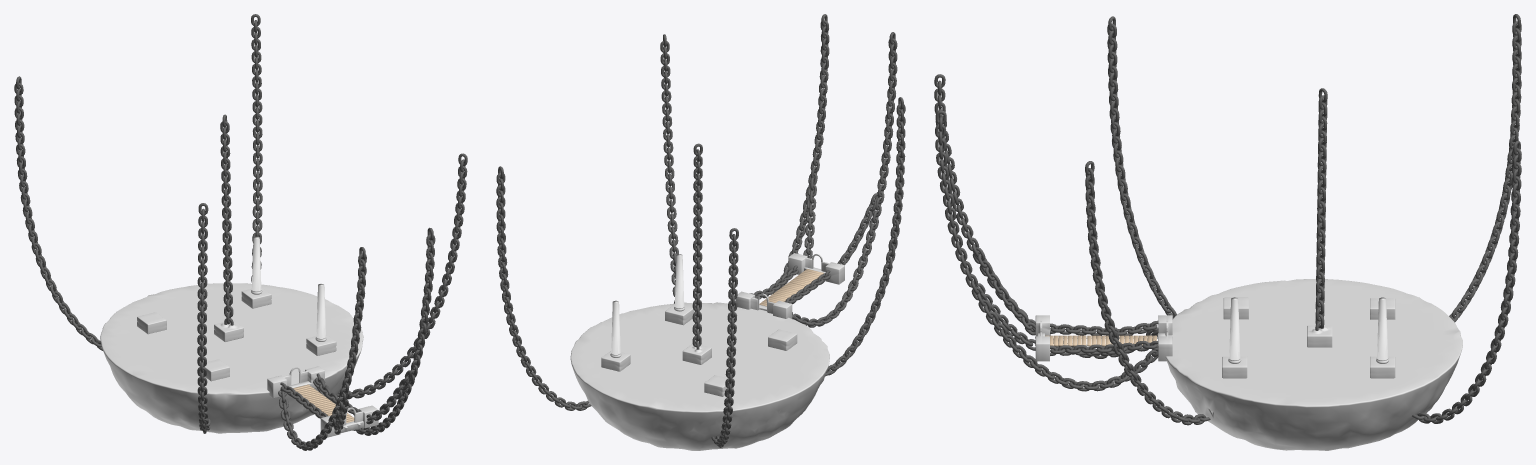
The model's file is GuardianRoom.fbx.
3 views of the same model, side by side, from view 1: azimuth 30°, elevation 25°; view 2: azimuth 150°, elevation 25°; view 3: azimuth 270°, elevation 25° (orthographic). The views are drawn at different scales.
Visible parts, largest first — view 1: arena_lp, Chains, BridgeFloor, Cylinder.001, Cylinder, LP_block.004, LP_block_middle, LP_block.001, LP_block.002; view 2: arena_lp, Chains, BridgeFloor, Cylinder.001, LP_block.003, Cylinder, LP_block_middle, LP_block.001, LP_block.002; view 3: arena_lp, Chains, BridgeFloor, Cylinder.001, Cylinder.
Boxes of the visible parts, x1,y1,x2,y2 form: arena_lp: [100, 283, 363, 433]; Chains: [14, 14, 467, 450]; BridgeFloor: [293, 384, 354, 422]; Cylinder.001: [251, 236, 262, 294]; Cylinder: [315, 284, 326, 341]; LP_block.004: [137, 312, 166, 334]; LP_block_middle: [214, 320, 243, 341]; LP_block.001: [241, 287, 271, 308]; LP_block.002: [306, 335, 336, 355]; arena_lp: [570, 302, 829, 450]; Chains: [496, 14, 905, 447]; BridgeFloor: [759, 269, 823, 306]; Cylinder.001: [610, 300, 621, 357]; LP_block.003: [768, 329, 797, 350]; Cylinder: [674, 254, 684, 311]; LP_block_middle: [682, 344, 711, 364]; LP_block.001: [601, 351, 630, 371]; LP_block.002: [665, 304, 694, 325]; arena_lp: [1165, 279, 1462, 450]; Chains: [934, 14, 1521, 425]; BridgeFloor: [1045, 335, 1156, 346]; Cylinder.001: [1376, 297, 1388, 363]; Cylinder: [1228, 297, 1241, 363].
Bounding box in the file's own units: 6865 × 7257 × 11559.
